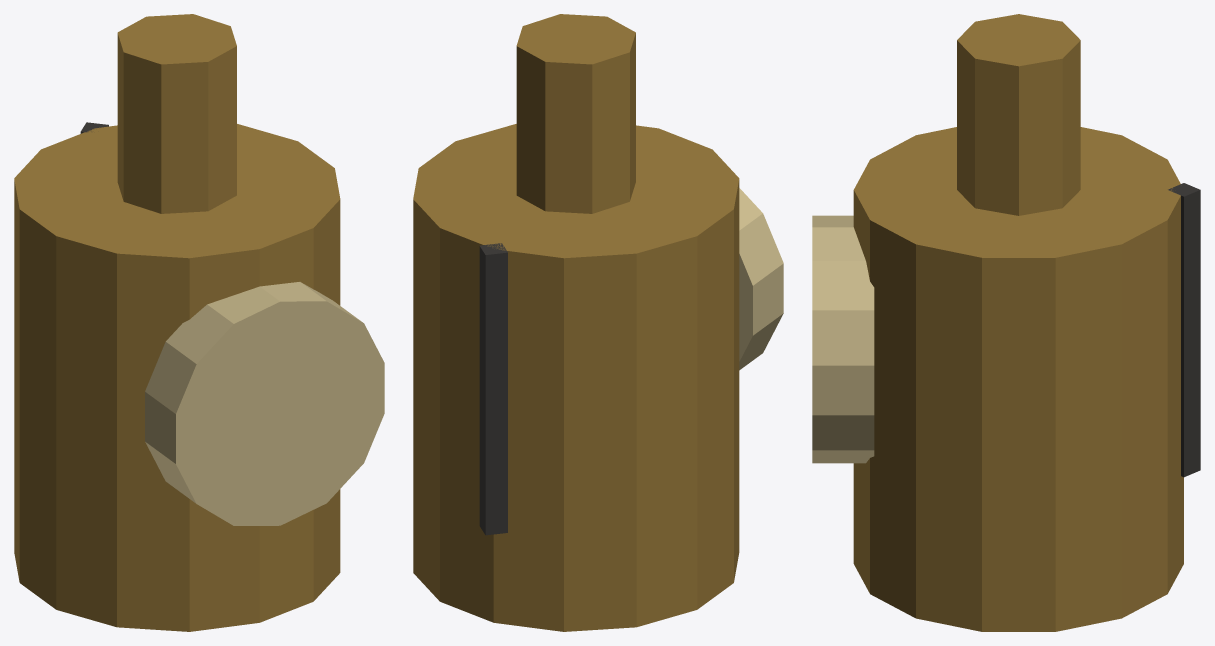
The model's file is TownFind_marshal.glb.
3 views of the same model, side by side, from view 1: azimuth 30°, elevation 25°; view 2: azimuth 150°, elevation 25°; view 3: azimuth 270°, elevation 25° (orthographic).
Parts seen in each view (by area): view 1: TownFind_marshal.001; view 2: TownFind_marshal.001; view 3: TownFind_marshal.001.
Part boxes in pixels (<box>): TownFind_marshal.001: <box>14,14,384,631</box>; TownFind_marshal.001: <box>413,14,783,631</box>; TownFind_marshal.001: <box>812,14,1200,631</box>.
Bounding box in the file's own units: 0.156 × 0.28 × 0.188.
